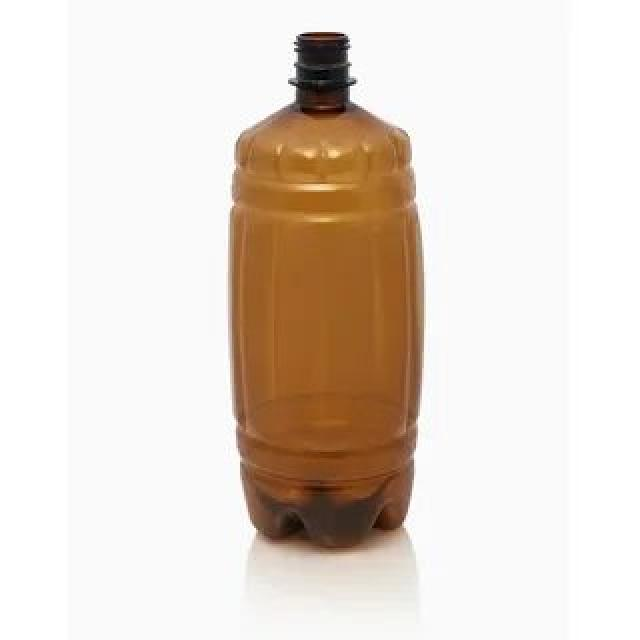brown: (227, 31, 423, 546)
